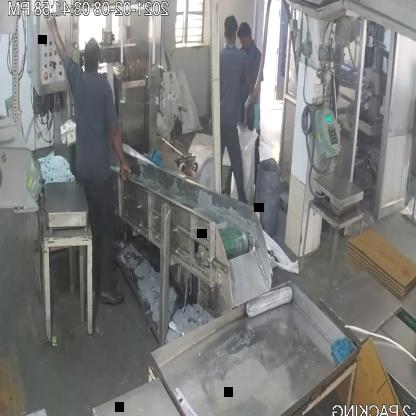no_glove: (103, 115, 143, 195), (33, 8, 69, 60)
